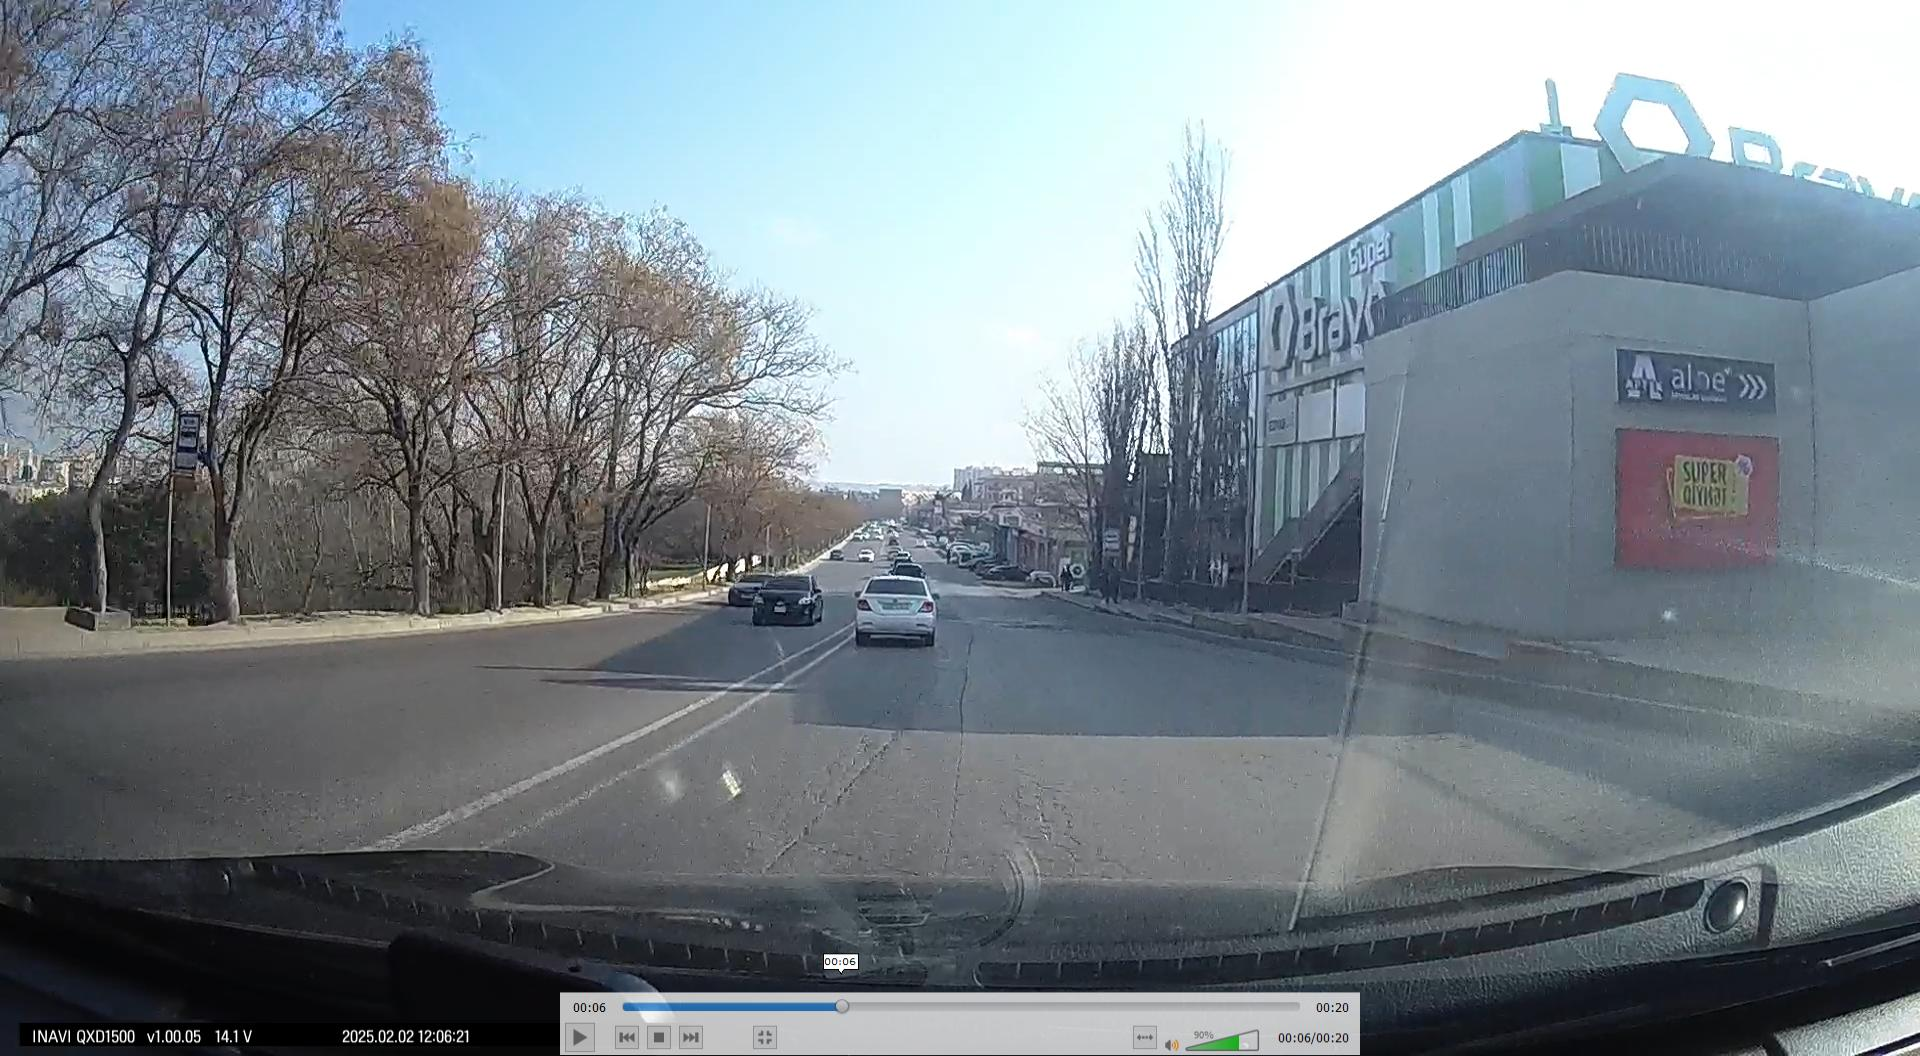banner: (1616, 351, 1780, 571)
